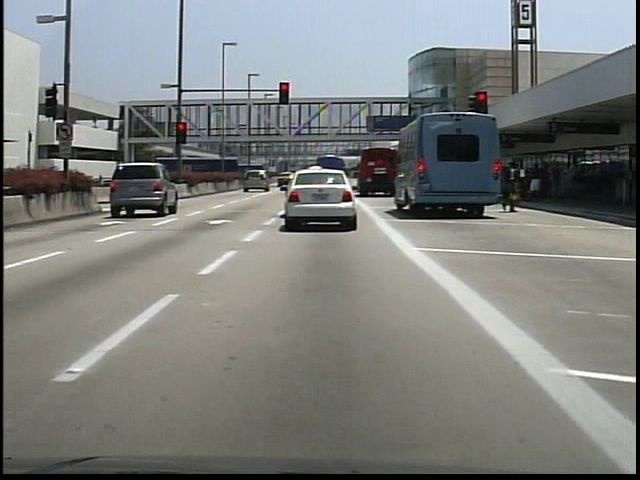person: (498, 155, 520, 216), (527, 157, 544, 203)
